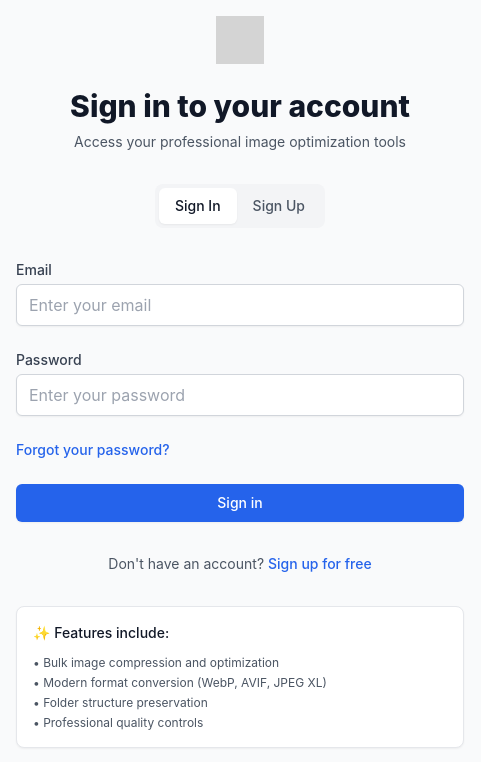
Test: ProtectedRoute › should toggle between login and registration modes
Check: the heading "Sign in to your account" is shown, box [70,88,410,124]
Click sign up button
Click the button "Sign up for free" at (320, 564), box [268,554,372,574]
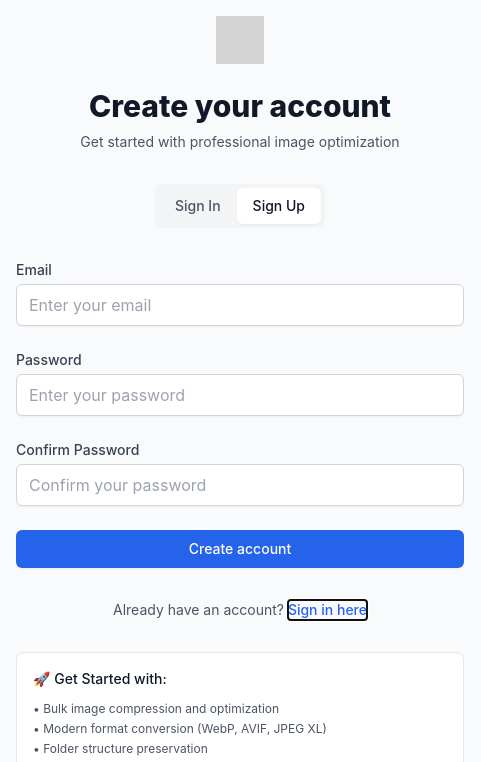
Check: the heading "Create your account" is shown, box [89,88,391,124]
Check: the button "Sign in here" is shown
Click sign in link
Click the button "Sign in here" at (327, 610), box [288,600,367,620]
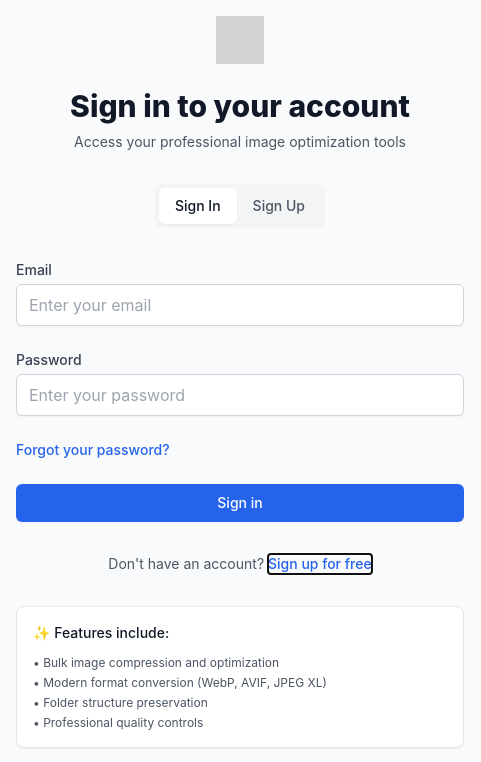
Check: the heading "Sign in to your account" is shown, box [70,88,410,124]
